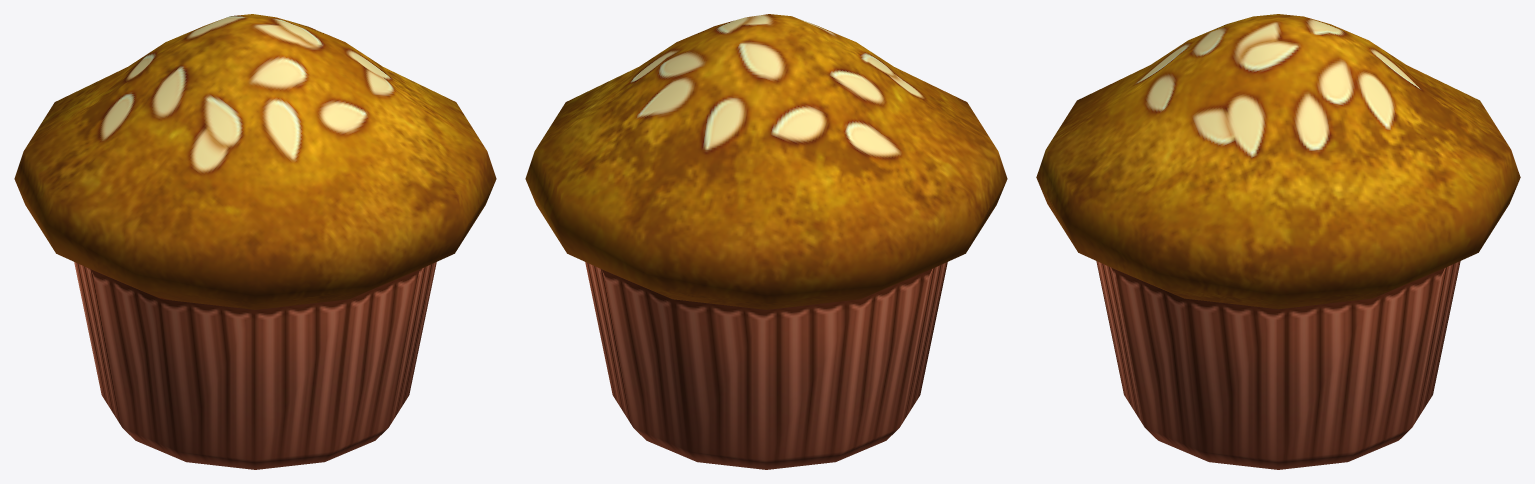
File: 010-Muffins_004.FBX
3 views of the same model, side by side, from view 1: azimuth 30°, elevation 25°; view 2: azimuth 150°, elevation 25°; view 3: azimuth 270°, elevation 25° (orthographic).
Parts seen in each view (by area): view 1: 010-Muffins_004; view 2: 010-Muffins_004; view 3: 010-Muffins_004.
Boxes of the visible parts, left/top/right/bottom form: 010-Muffins_004: left=14, top=14, right=496, bottom=469; 010-Muffins_004: left=525, top=14, right=1007, bottom=469; 010-Muffins_004: left=1036, top=14, right=1520, bottom=469.
Bounding box in the file's own units: 19.43 × 17.2 × 19.43.
